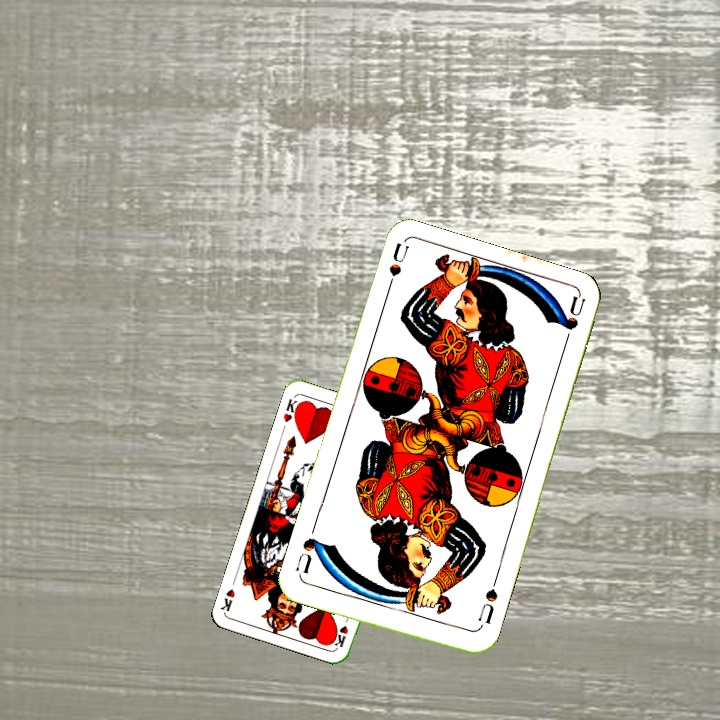HK: (331, 610, 353, 650), (279, 393, 304, 425)
SU: (381, 241, 411, 300), (474, 575, 501, 627)
